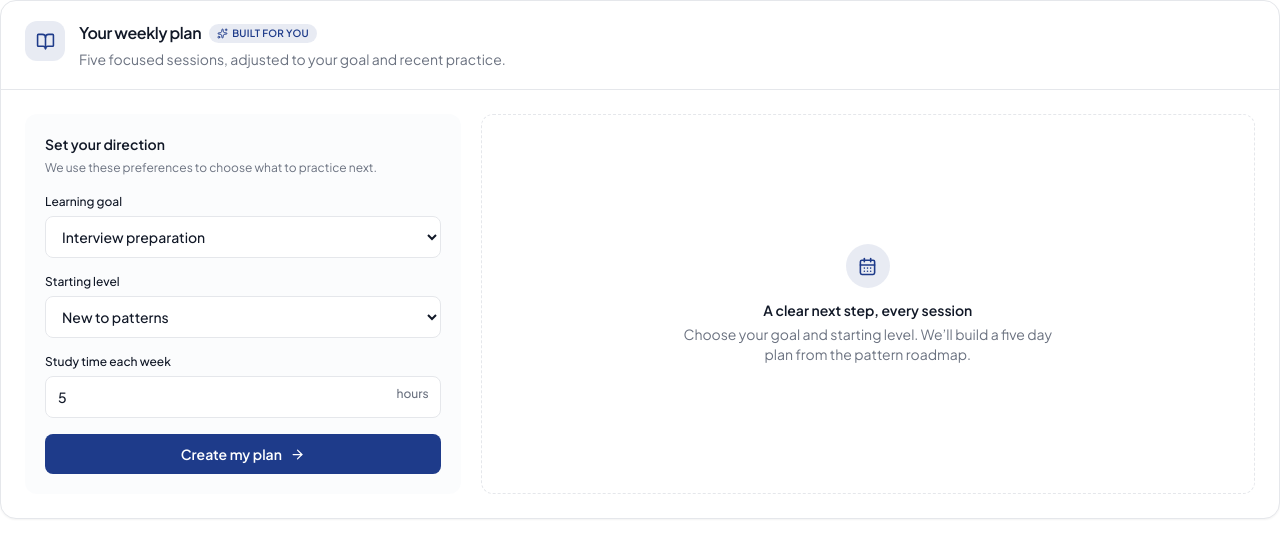
it: LearningPlanCard › saves preferences and renders the generated plan
The width and height of the screenshot is (1280, 536).
Select "Learn fundamentals" in the dropdown labelled "Learning goal" at x=243, y=237, box [45,216,441,258]
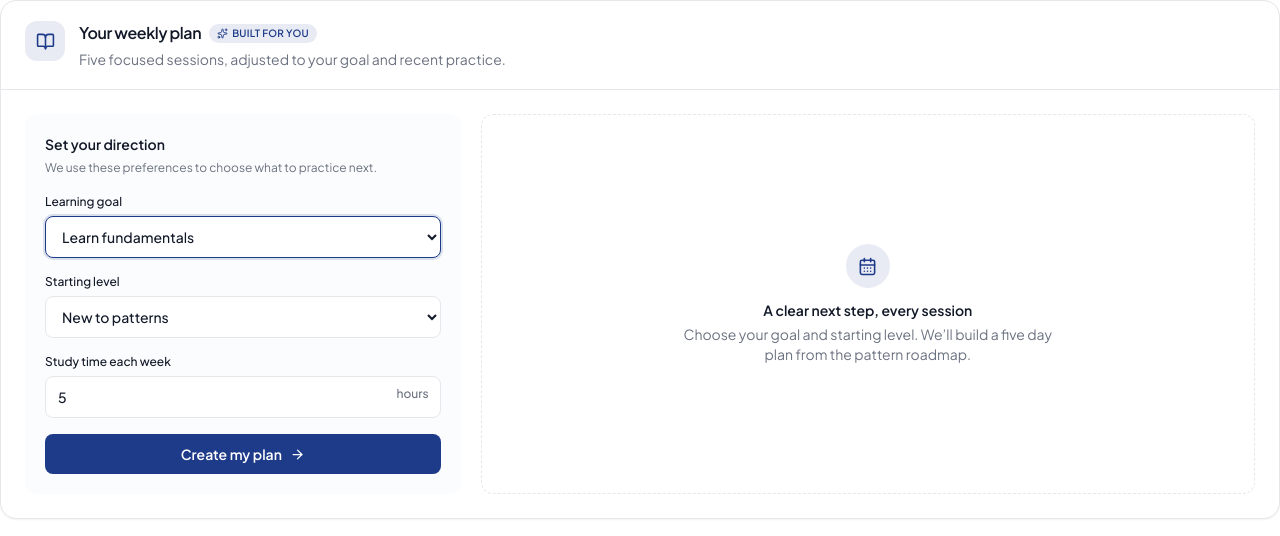
Select "Some practice" in the dropdown labelled "Starting level" at x=243, y=317, box [45,296,441,338]
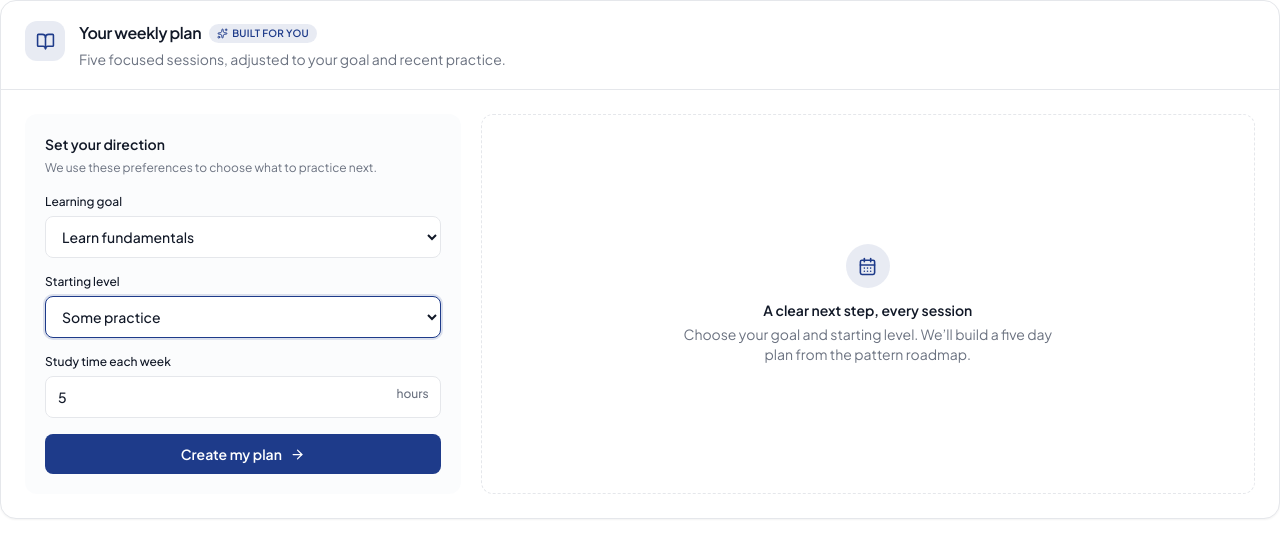
Replace the text in the number field named "Study hours per week" with "6" at x=243, y=397, box [45,376,441,418]
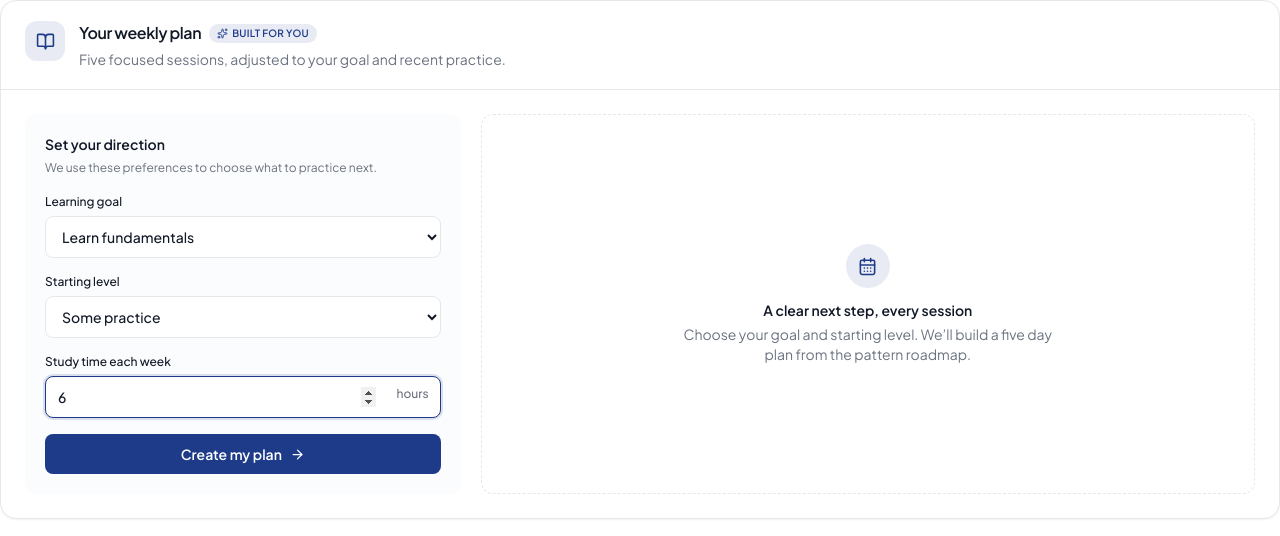
Click the button "Create my plan" at x=243, y=454, box [45,434,441,474]
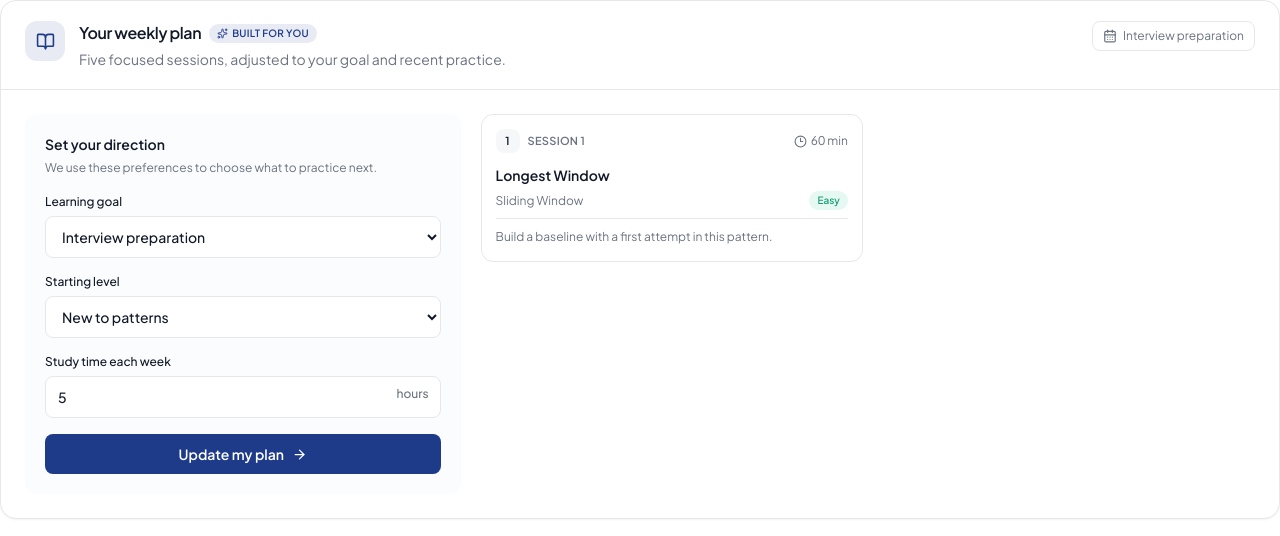
Result: the link "Longest Window" is shown at [496,166,610,184]
Result: the text "Sliding Window" is shown at [496,192,583,208]
